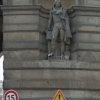Statue: (34, 2, 90, 57)
